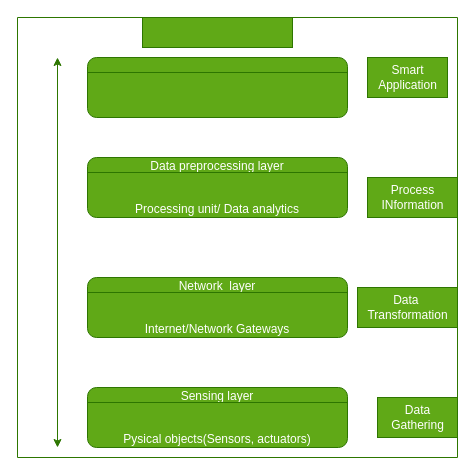
The diagram is 476 pixels wide and 476 high, and some of its shapes have lost their labels. Here are the shapes that lost their labels. From the top down, the box of each, then its label:
(142, 16, 292, 48): 4 Stage IOT Architecture
(86, 56, 348, 118): Application layer Smart application and management
